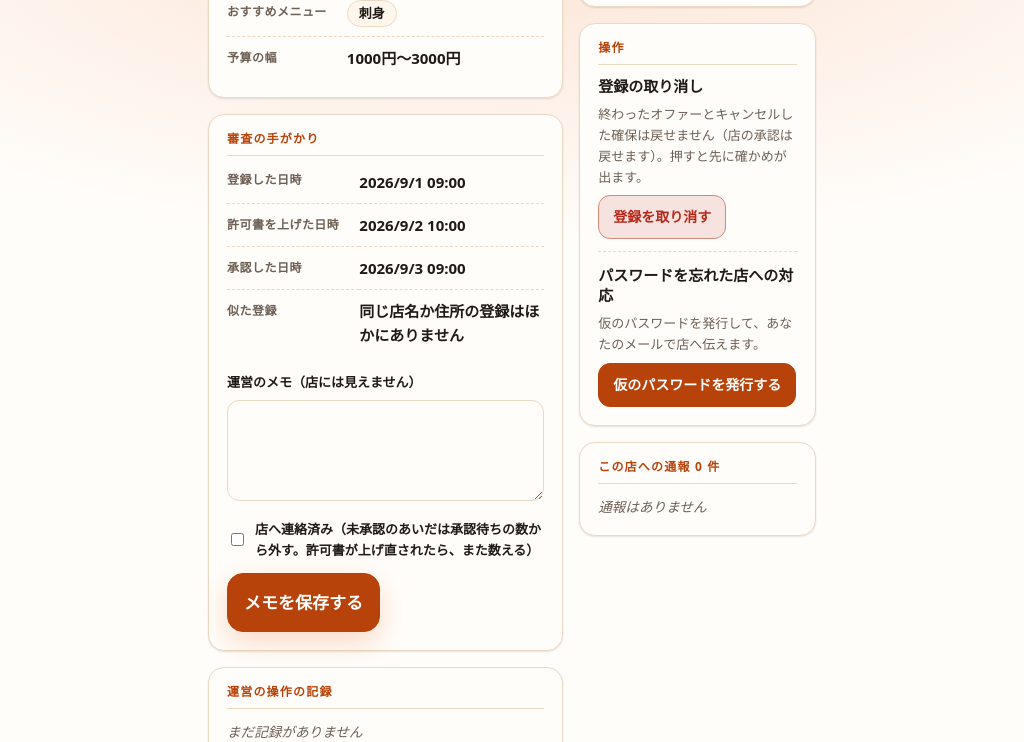
Test: 取り消し・戻すの理由と、止めたときの影響（運営-01・運営-03） › 仮のパスワードの発行は、運営自身の今のパスワードを入れてから送る。違えばその欄の直下に断りが出る
(page scrolled)
Click the button with test id "btn-temp-password" at {"x": 697, "y": 385}, box [598,363,796,407]
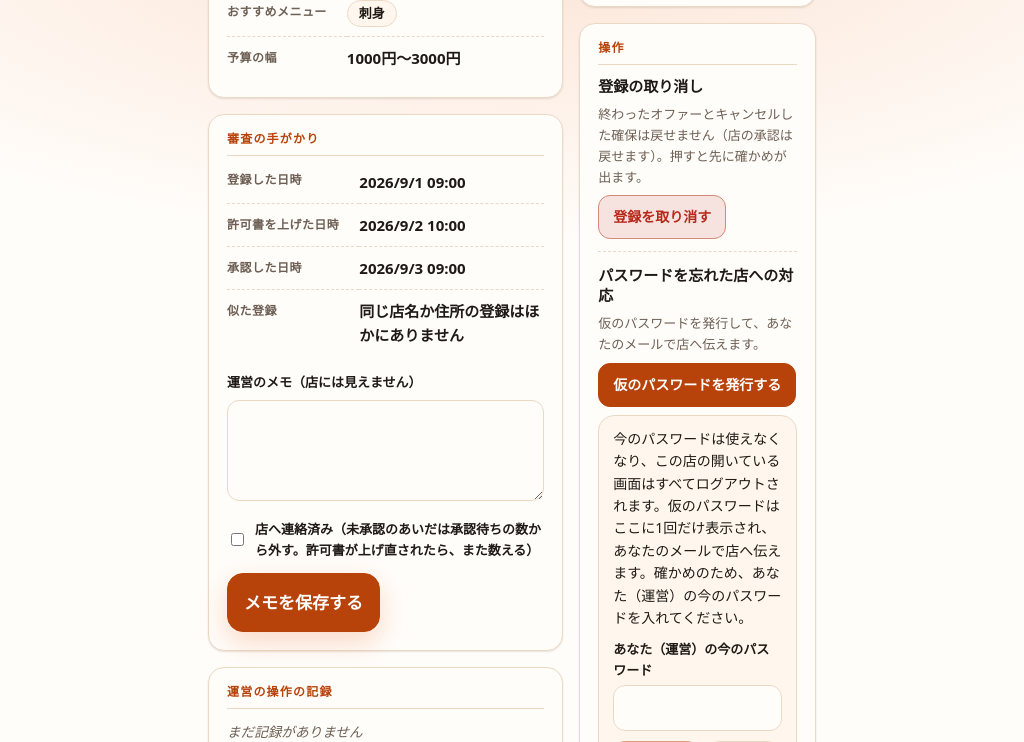
Type "wrong" into the password field with test id "field-currentPassword" at {"x": 698, "y": 708}, box [613,685,782,731]
(page scrolled)
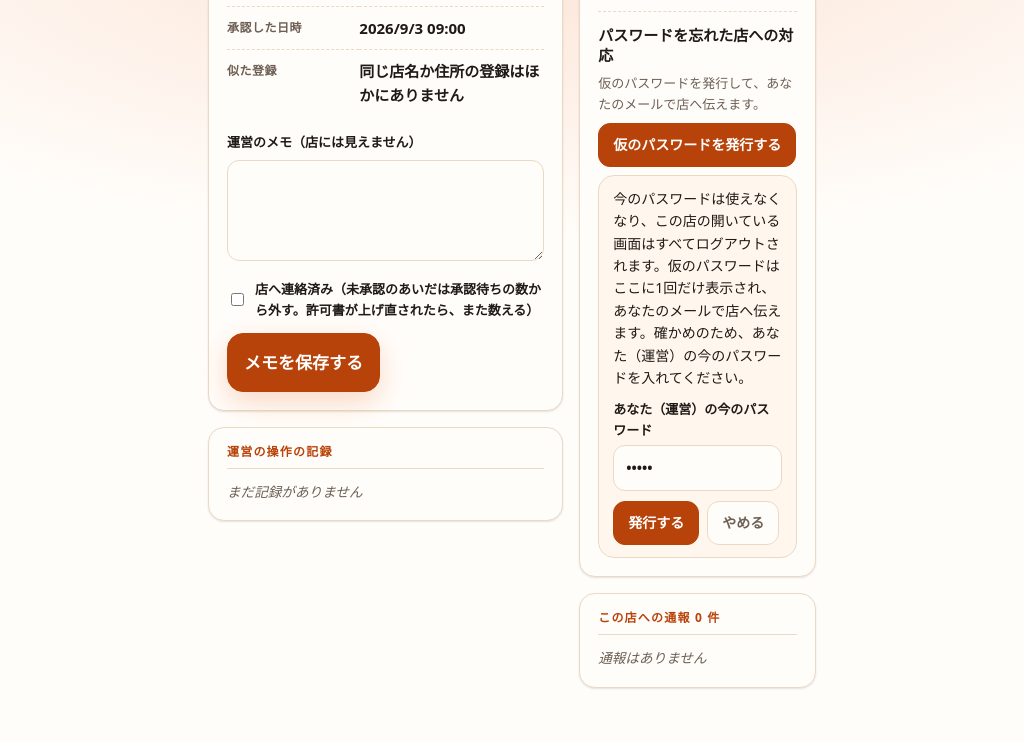
Click the button with test id "btn-confirm-temp-password" at {"x": 656, "y": 523}, box [613,501,699,545]
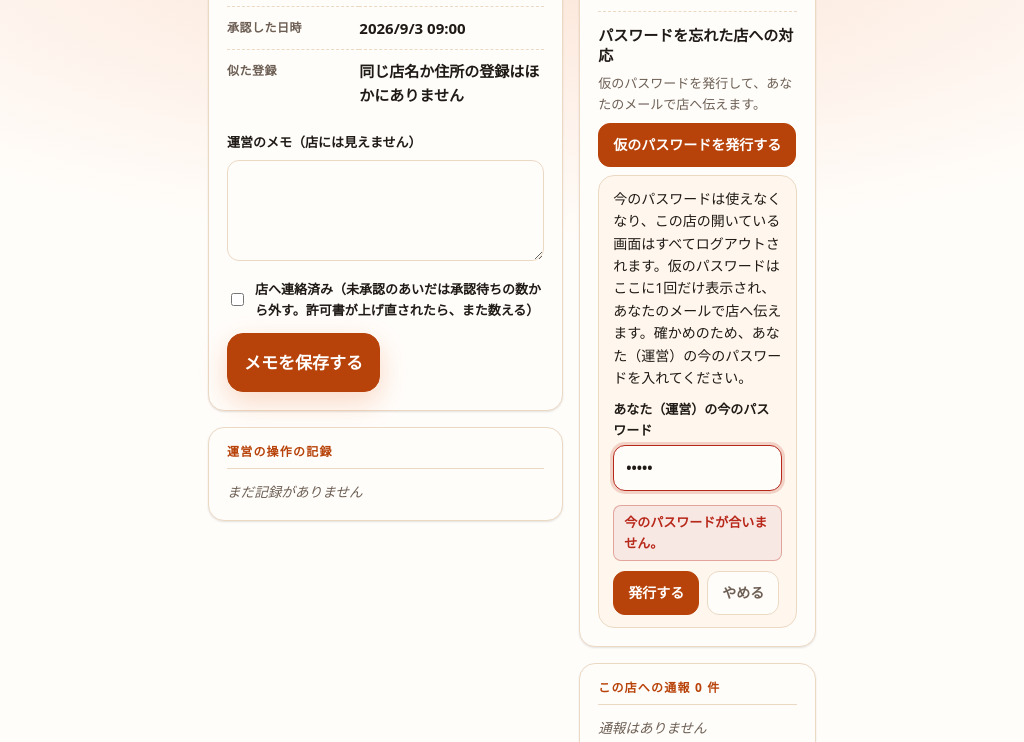
Result: the message "今のパスワードが合いません。" is shown at [613,505,782,561]
Type "admin-pass-1234" into the password field with test id "field-currentPassword" at {"x": 698, "y": 468}, box [613,445,782,491]
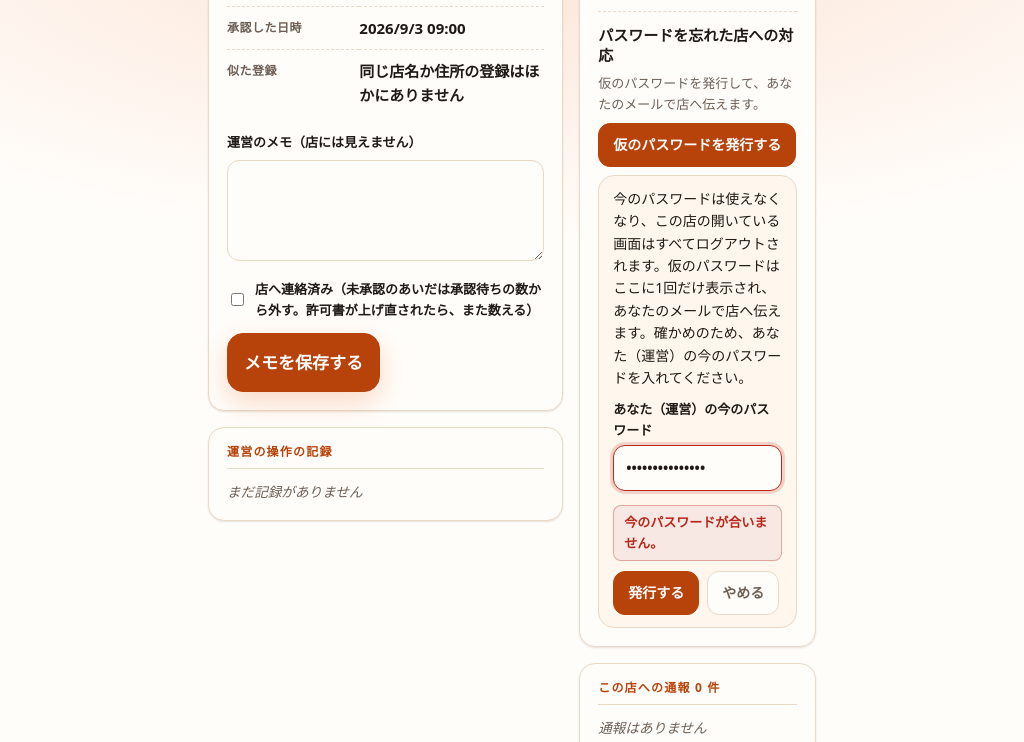
Click the button with test id "btn-confirm-temp-password" at {"x": 656, "y": 593}, box [613,571,699,615]
(page scrolled)
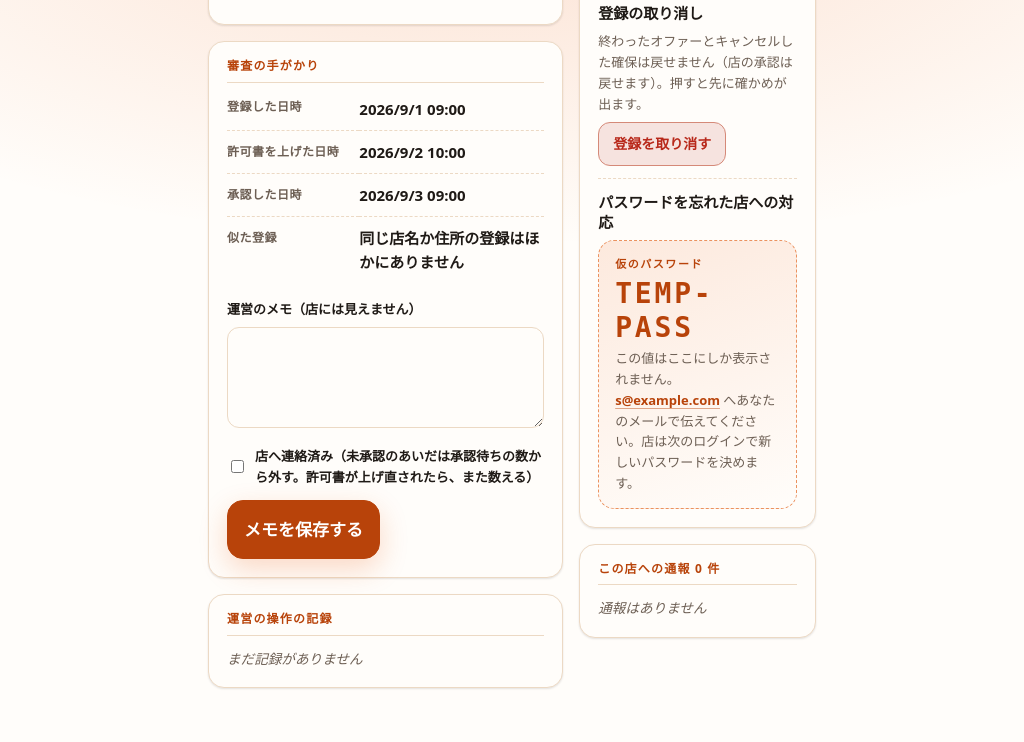
Result: the text with test id "temp-password" reads "TEMP-PASS" at [615,277,714,344]
